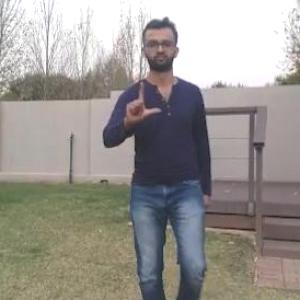land_hand: (119, 72, 161, 126)
